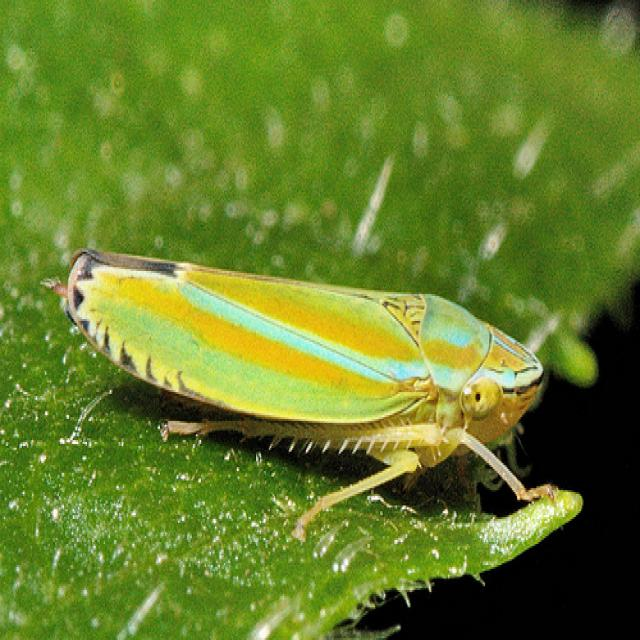Yechan: (47, 226, 553, 504)
